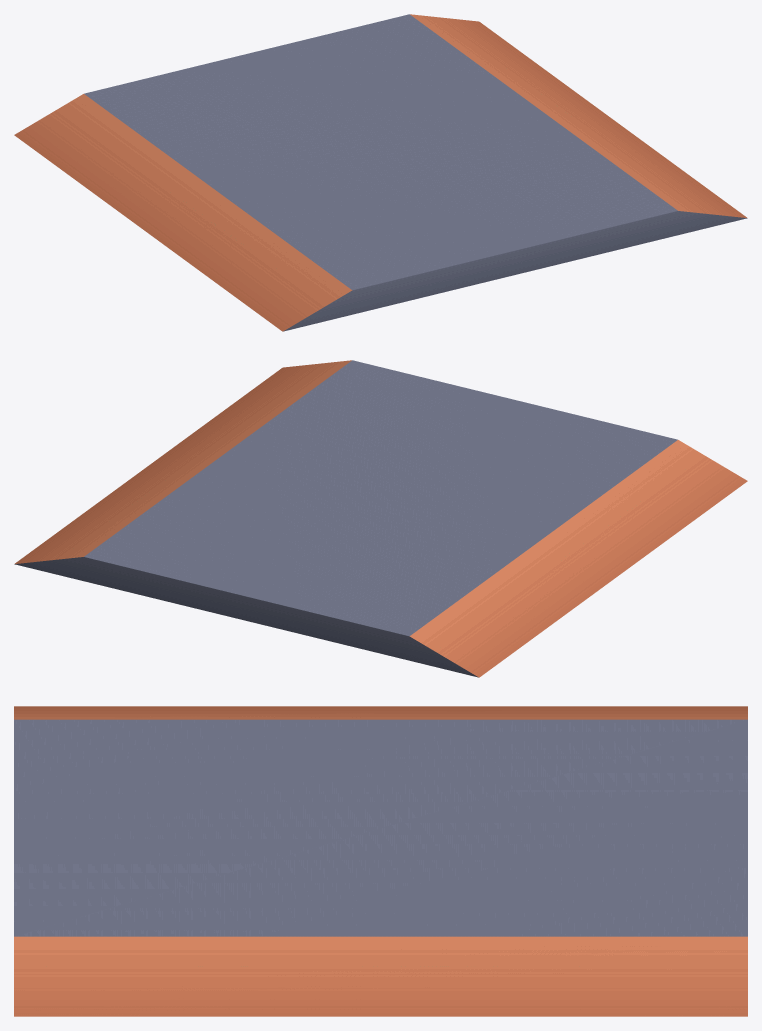
The model's file is path-short.glb.
3 views of the same model, one above another, from view 1: azimuth 30°, elevation 25°; view 2: azimuth 150°, elevation 25°; view 3: azimuth 270°, elevation 25° (orthographic). The views are drawn at different scales.
Visible parts, largest first — view 1: path-short; view 2: path-short; view 3: path-short.
Boxes of the visible parts, x1,y1,x2,y2 form: path-short: (14,14,747,331); path-short: (14,360,747,677); path-short: (14,706,747,1016).
Bounding box in the file's own units: 0.2 × 0.01 × 0.2.
Materials: 1 (1 with a texture image).
